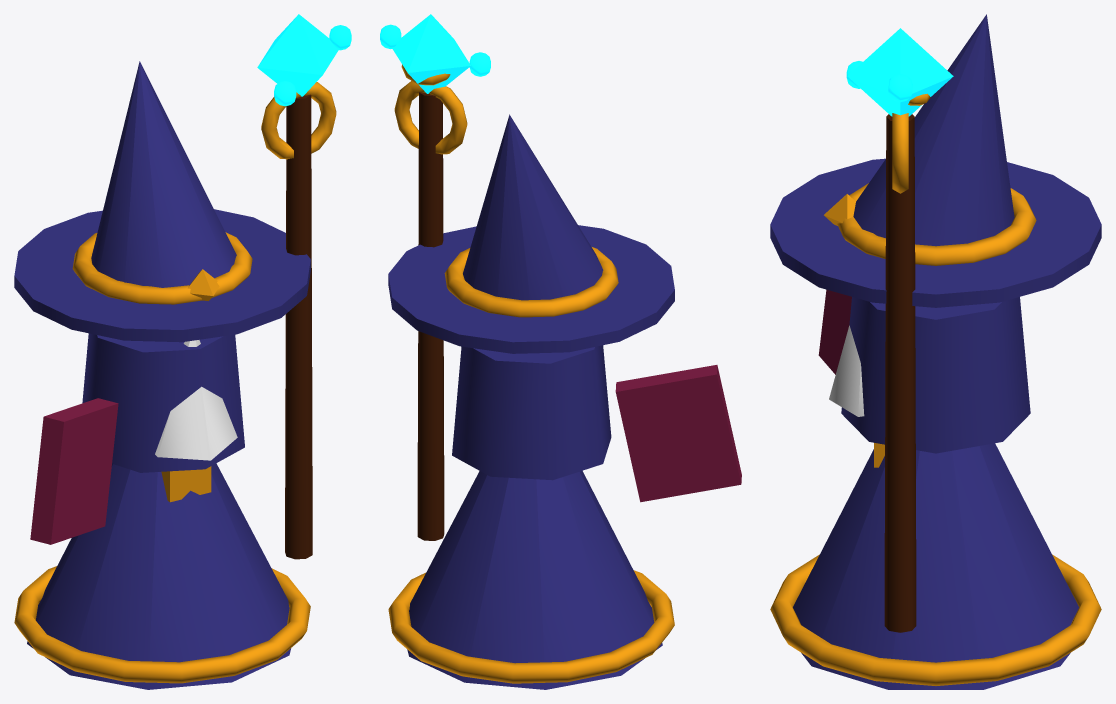
Rendered from mage.glb.
The picture shows the model from 3 angles, left to right: view 1: azimuth 30°, elevation 25°; view 2: azimuth 150°, elevation 25°; view 3: azimuth 270°, elevation 25°; orthographic projection. The views are drawn at different scales.
Visible parts, largest first — view 1: mage; view 2: mage; view 3: mage.
Boxes of the visible parts, bbox=[...] form: mage: bbox=[14, 14, 351, 689]; mage: bbox=[380, 14, 741, 689]; mage: bbox=[770, 14, 1101, 689].
Bounding box in the file's own units: 0.7517 × 1.24 × 0.56.
